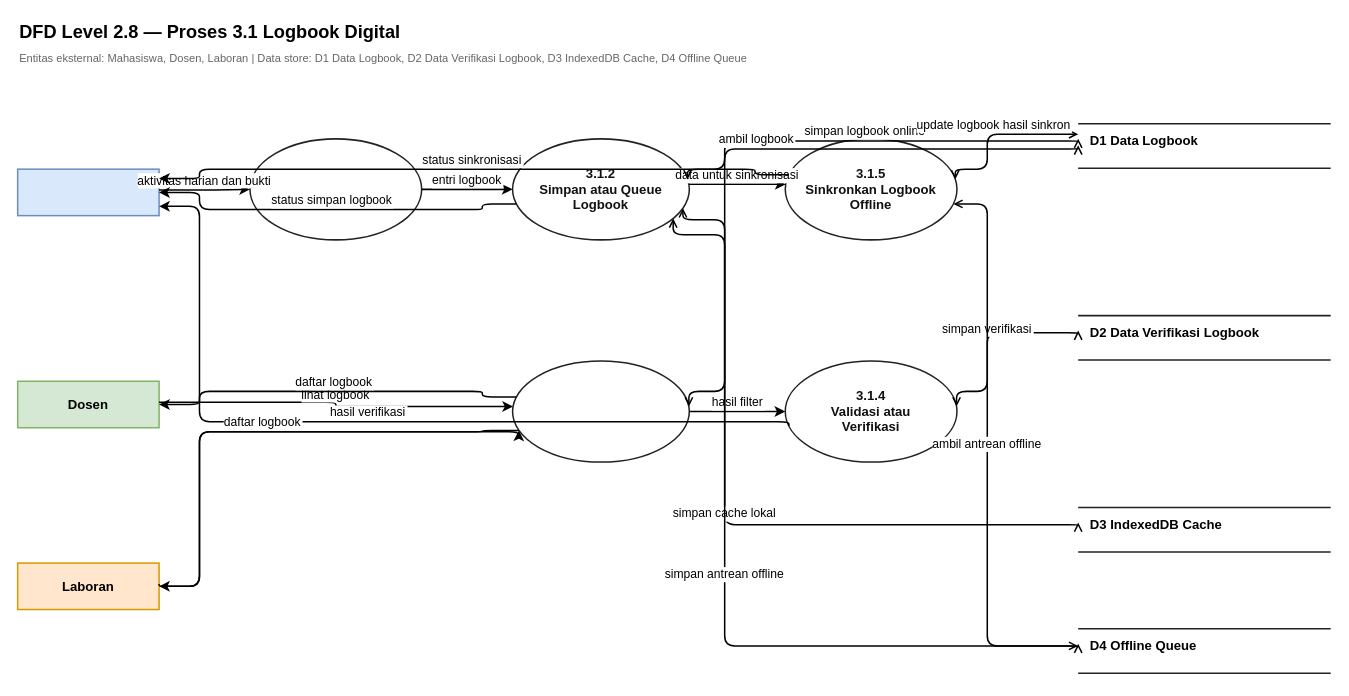
Image size: 1349x696. Some labels were removed from this diagram. Here are the shapes that lost their labels. From the top down, the box of each, then its label:
(16, 168, 159, 216): Mahasiswa
(249, 138, 422, 240): 3.1.1 Input Aktivitas Logbook
(511, 360, 690, 462): 3.1.3 Lihat dan Filter Logbook
